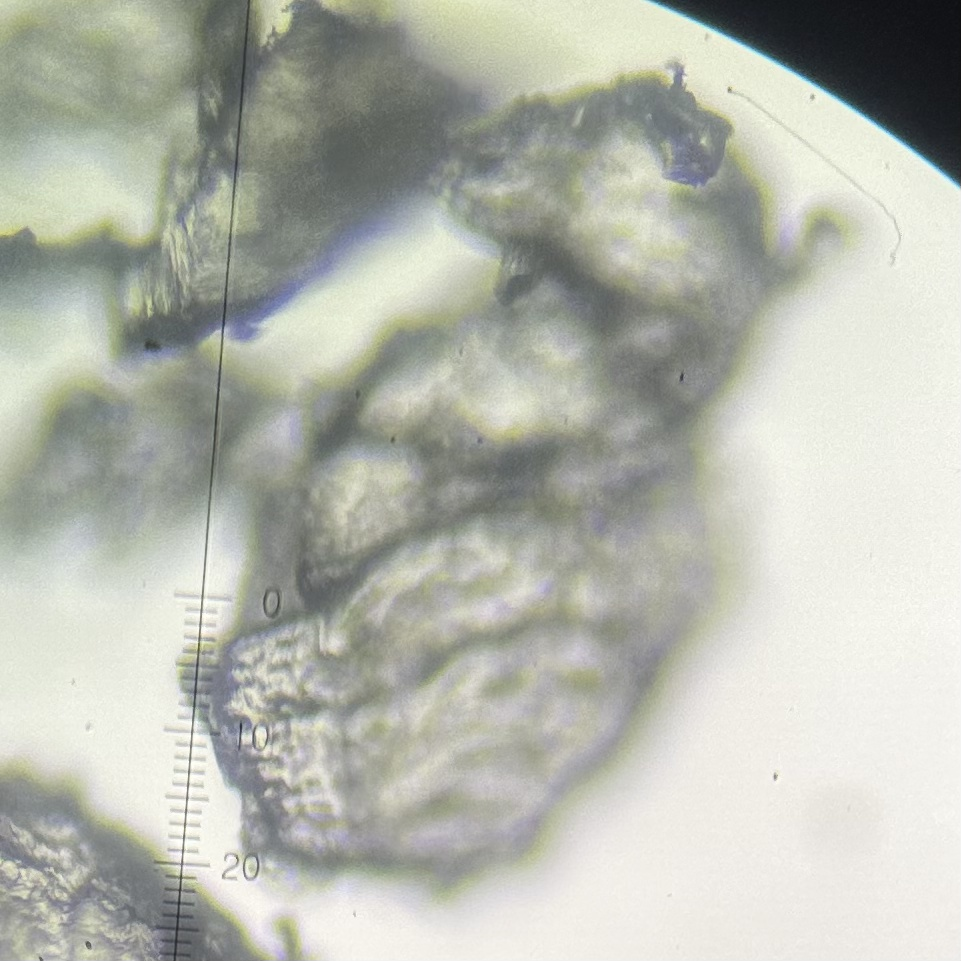microplastic: (172, 54, 853, 909), (110, 1, 493, 363), (1, 217, 274, 576), (1, 773, 275, 961), (1, 1, 263, 157)
